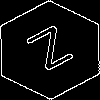Z: (25, 25, 82, 79)
